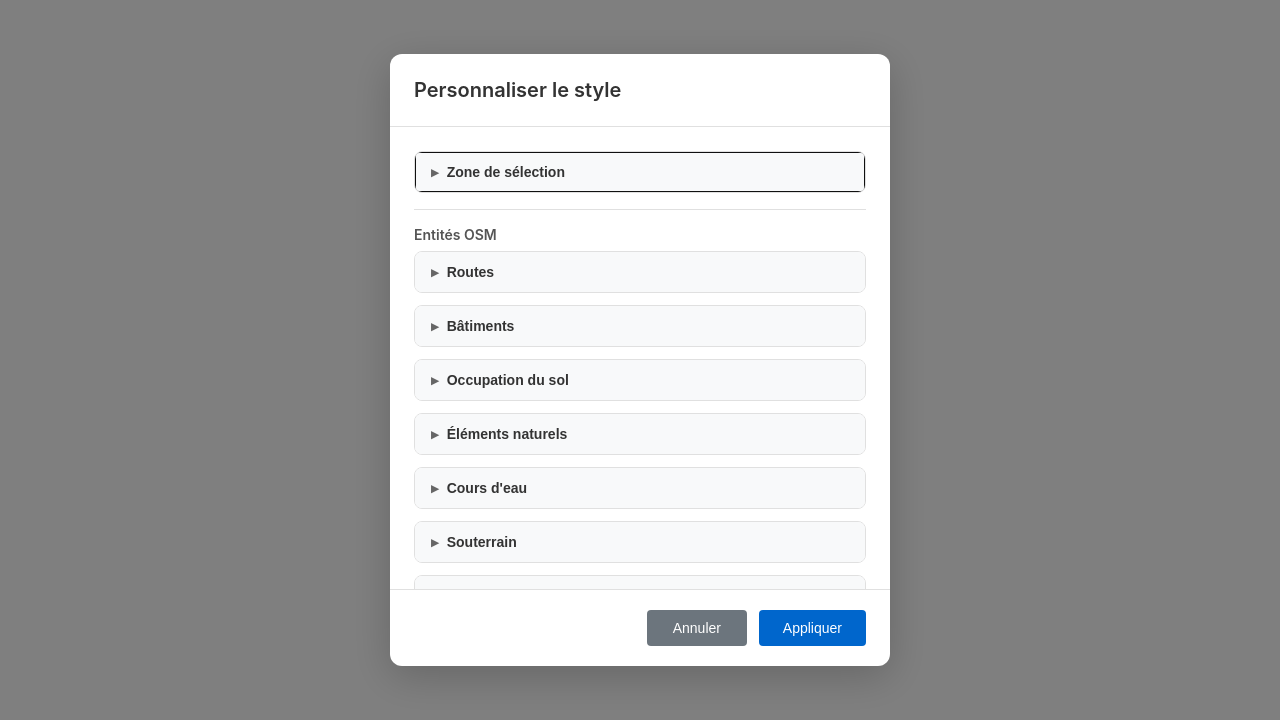
Test: StyleModal building border color › shows the same derived border color as the one rendered
Click the button "▶ Bâtiments": [481, 326] box [415,306,865,346]
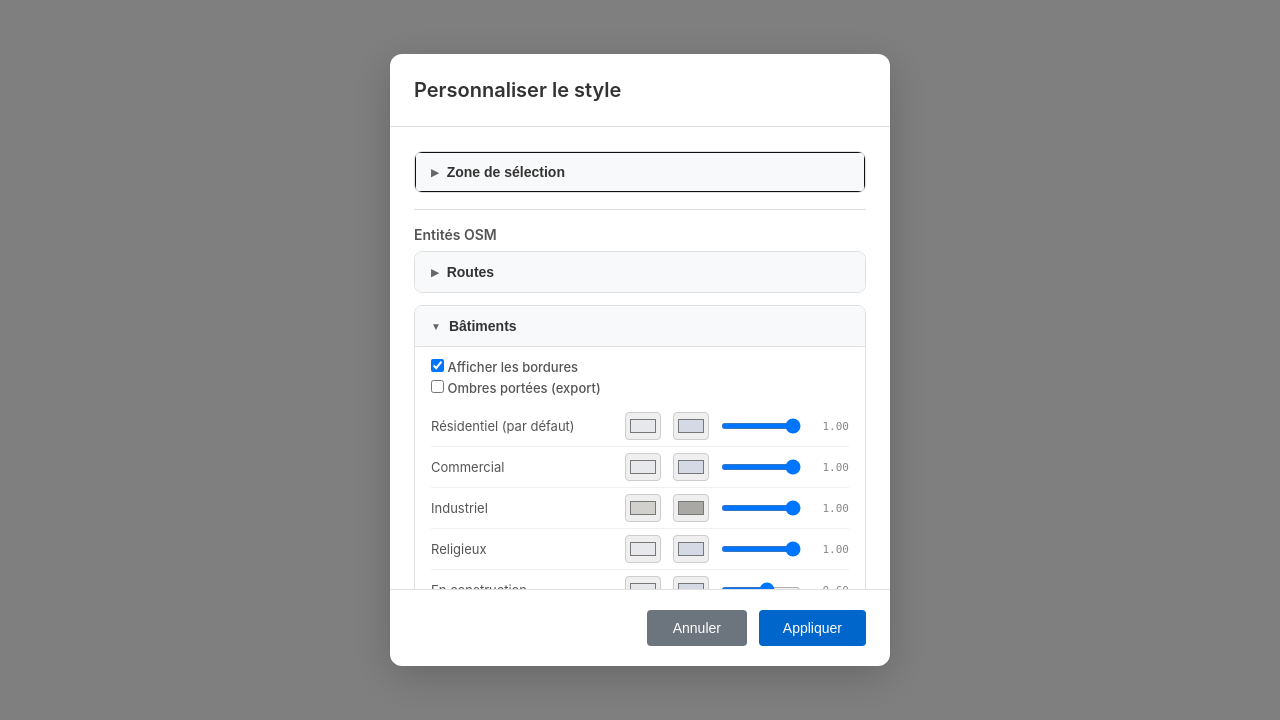
expect the colour field titled "Couleur de bordure" in the row of "Industriel" holds "#a9a8a5": met, box [673,494,709,522]
